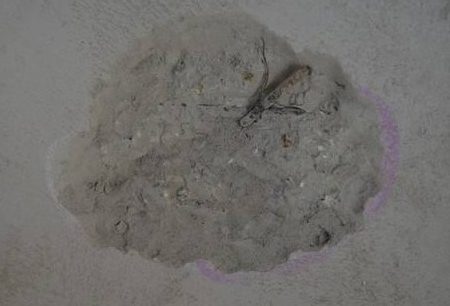Exposed reinforcement: (239, 66, 310, 128)
Spalling: (45, 12, 386, 275)
